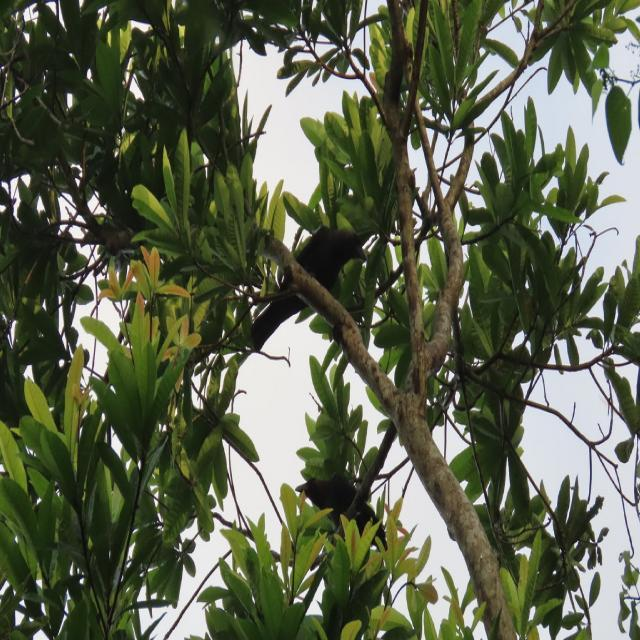bird: (238, 216, 370, 358), (292, 468, 389, 560)
